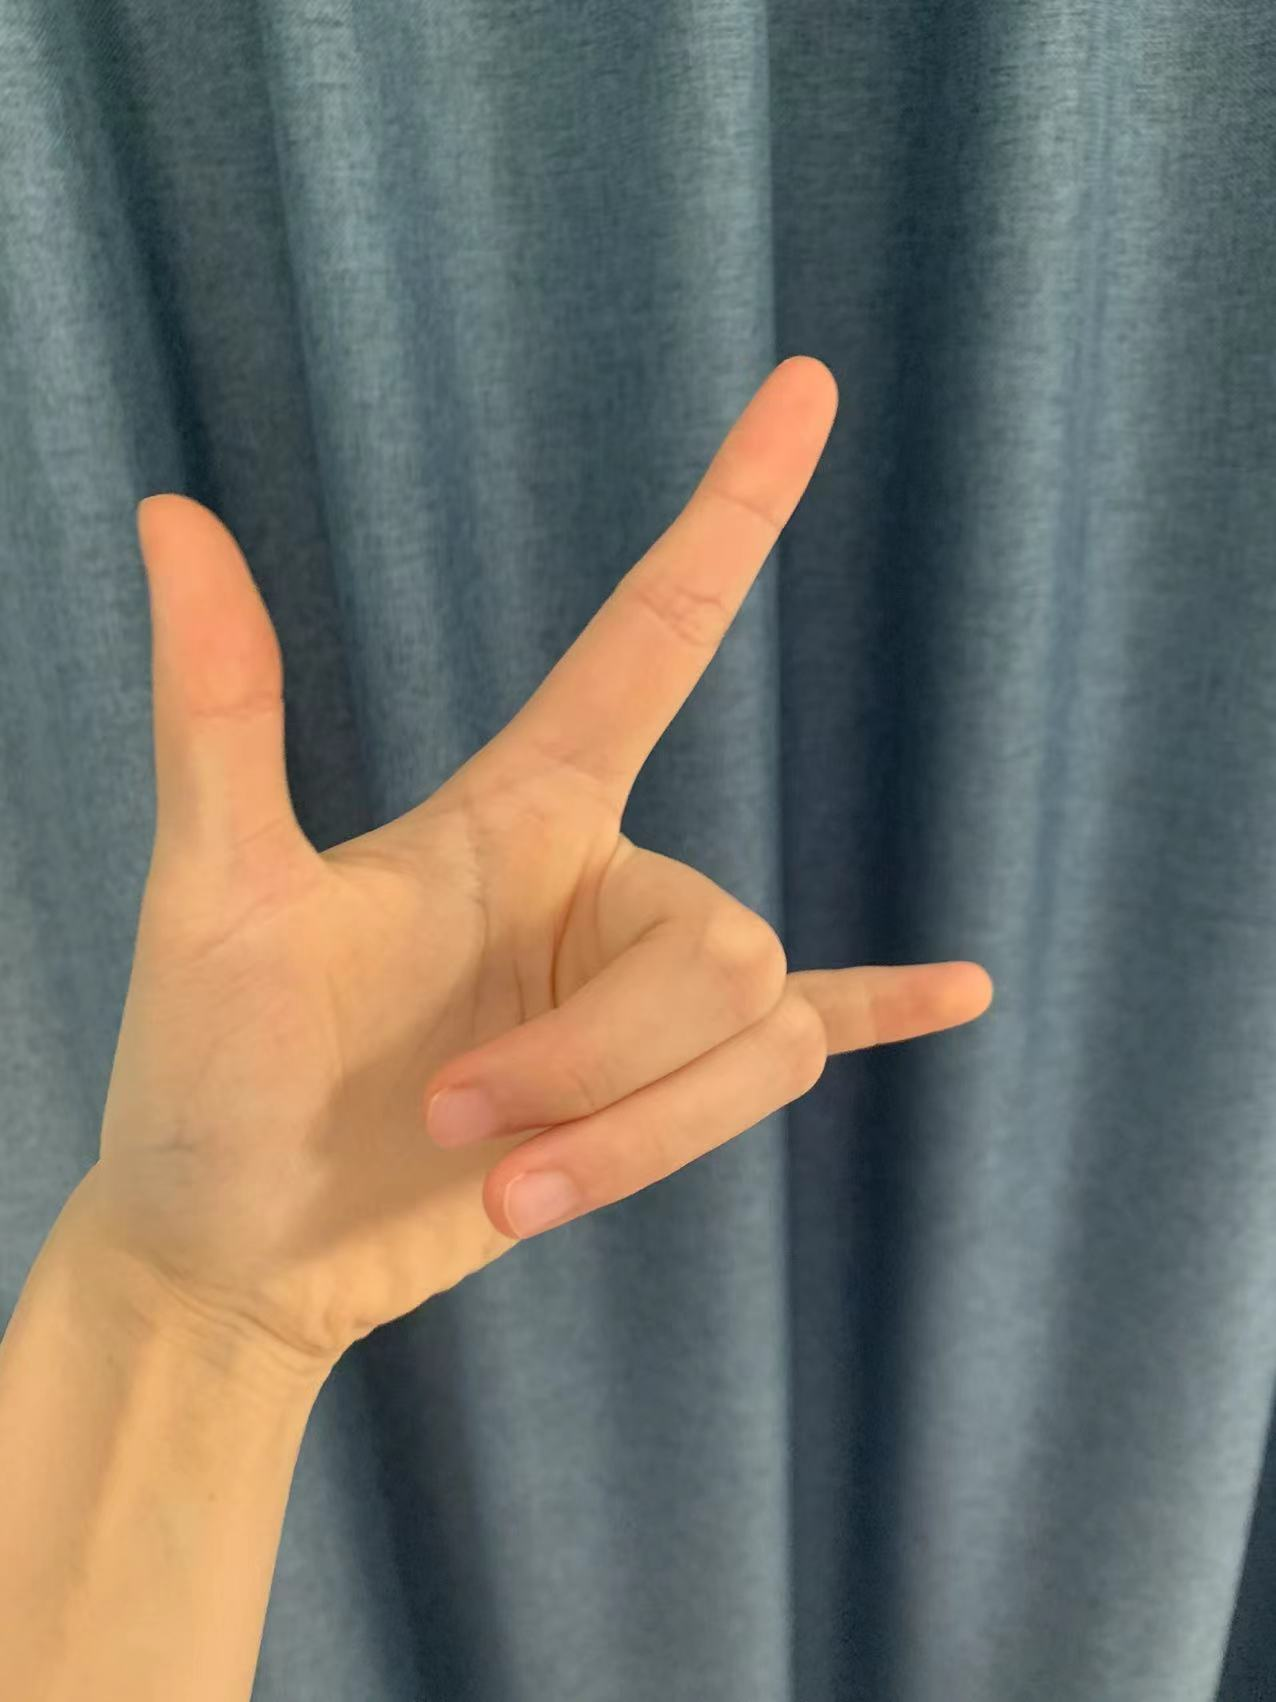back: (71, 344, 970, 1307)
